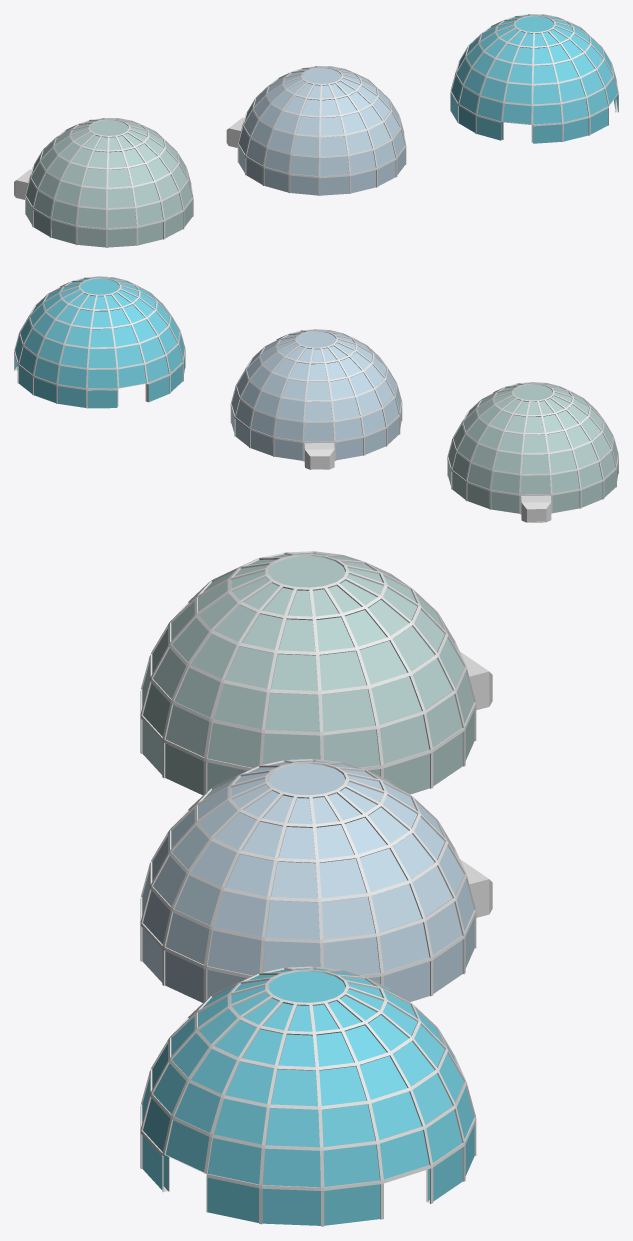
The model's file is domes.fbx.
3 renders of one model, top to bottom at view 1: azimuth 30°, elevation 25°; view 2: azimuth 150°, elevation 25°; view 3: azimuth 270°, elevation 25°, orthographic. The views are drawn at different scales.
Visible parts, largest first — view 1: Sphere.004, Sphere.005, Sphere.003; view 2: Sphere.004, Sphere.005, Sphere.003; view 3: Sphere.003, Sphere.005, Sphere.004.
Part boxes in pixels (x1,y1,x2,y2): Sphere.004: (226, 66, 406, 195); Sphere.005: (14, 118, 193, 247); Sphere.003: (450, 14, 618, 143); Sphere.004: (230, 329, 402, 469); Sphere.005: (447, 382, 618, 522); Sphere.003: (14, 276, 185, 408); Sphere.003: (140, 966, 476, 1226); Sphere.005: (140, 551, 492, 795); Sphere.004: (140, 759, 492, 1002).
Bounding box in the file's own units: 780 × 110 × 208.
